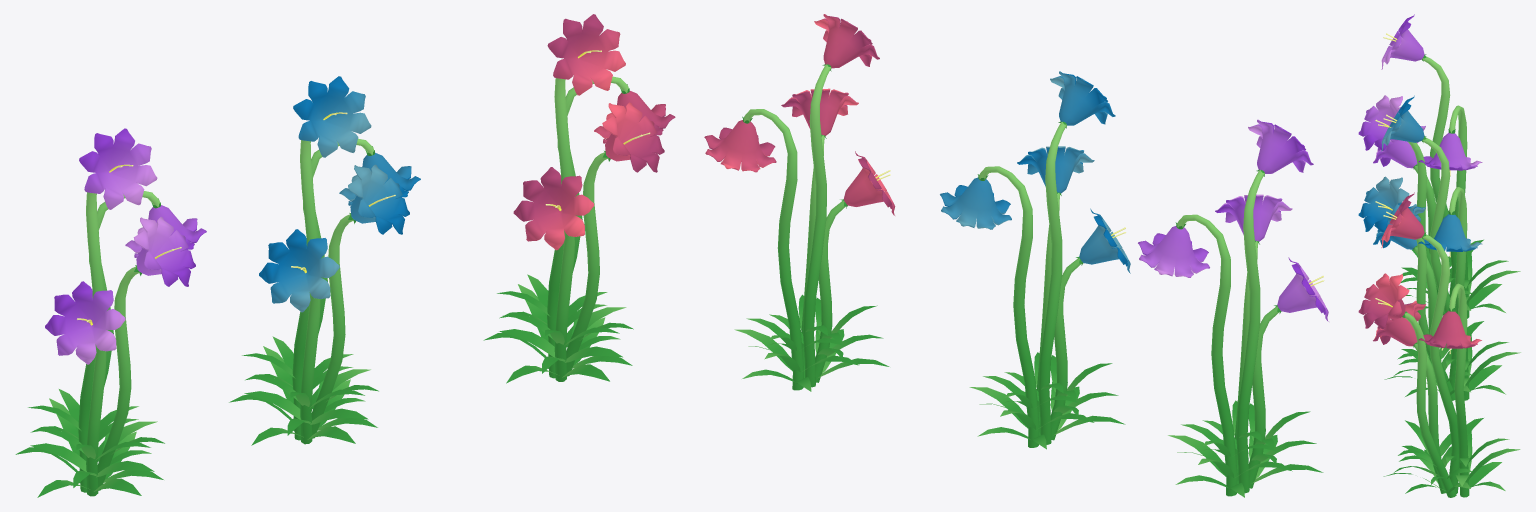
The picture shows the model from 3 angles, left to right: view 1: azimuth 30°, elevation 25°; view 2: azimuth 150°, elevation 25°; view 3: azimuth 270°, elevation 25°; orthographic projection. The views are drawn at different scales.
Parts seen in each view (by area): view 1: Flower2, Flower1, Flower3; view 2: Flower1, Flower2, Flower3; view 3: Flower3, Flower1, Flower2.
Boxes of the visible parts, x1,y1,x2,y2 form: Flower2: (15,128,206,497); Flower1: (229,76,420,445); Flower3: (483,14,675,383); Flower1: (940,71,1130,449); Flower2: (1138,119,1328,497); Flower3: (704,14,895,391); Flower3: (1358,192,1520,497); Flower1: (1358,95,1520,400); Flower2: (1358,14,1520,318).
Size of the model in its own units: 0.753 by 0.4208 by 0.2102.
1 material, 1 textured.
